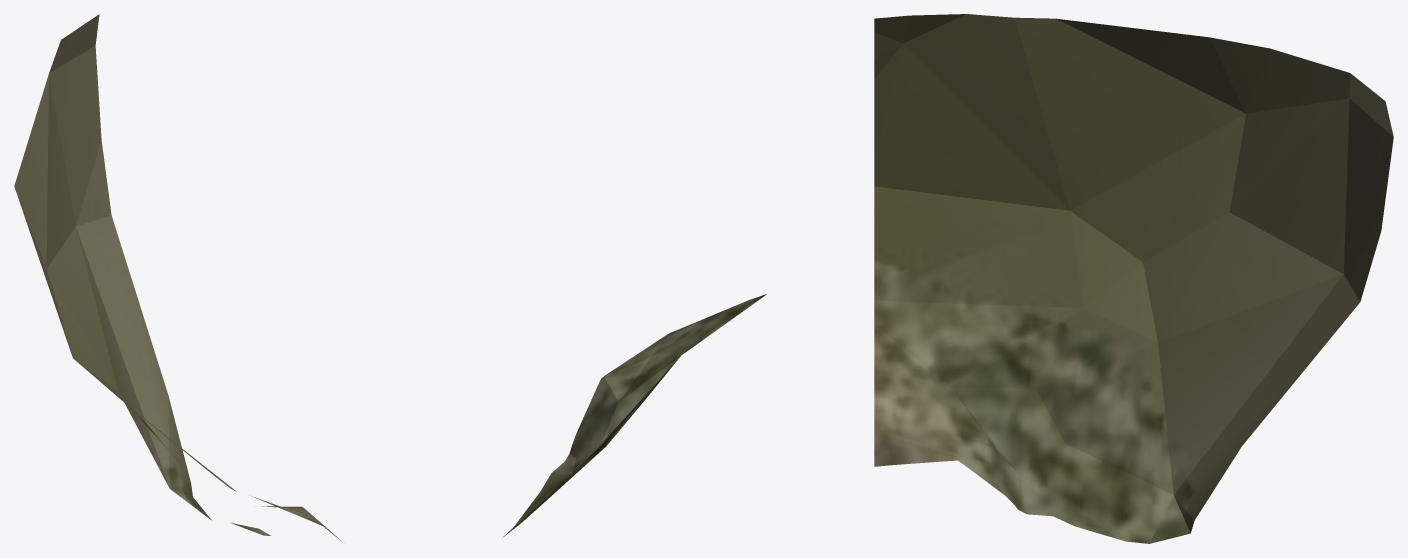
3 views of the same model, side by side, from view 1: azimuth 30°, elevation 25°; view 2: azimuth 150°, elevation 25°; view 3: azimuth 270°, elevation 25° (orthographic). The views are drawn at different scales.
Bounding box in the file's own units: 0.5938 × 1.31 × 1.39.
Materials: 1 (1 with a texture image).
